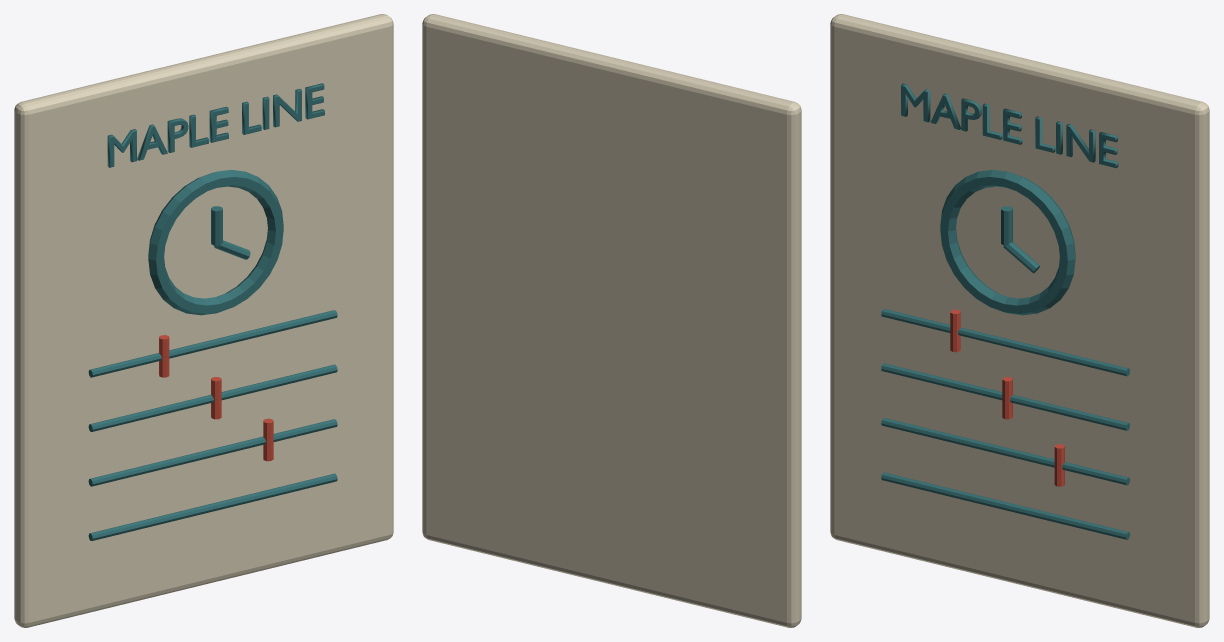
Rendered from timetable-clock-v1-DZQhvbtV.glb.
The picture shows the model from 3 angles, left to right: view 1: azimuth 30°, elevation 25°; view 2: azimuth 150°, elevation 25°; view 3: azimuth 330°, elevation 25°; orthographic projection.
Parts seen in each view (by area): view 1: Timetable sheet, Printed station clock, Timetable title, Timetable row 4, Timetable row 3, Timetable row 2, Timetable row 1; view 2: Timetable sheet; view 3: Timetable sheet, Printed station clock, Timetable title, Timetable row 4, Timetable row 1, Timetable row 2, Timetable row 3.
Boxes of the visible parts, bbox=[...] form: Timetable sheet: bbox=[14, 14, 393, 627]; Printed station clock: bbox=[148, 170, 283, 315]; Timetable title: bbox=[107, 83, 324, 167]; Timetable row 4: bbox=[88, 473, 337, 540]; Timetable row 3: bbox=[88, 419, 337, 486]; Timetable row 2: bbox=[88, 364, 337, 431]; Timetable row 1: bbox=[88, 310, 337, 377]; Timetable sheet: bbox=[422, 14, 801, 627]; Timetable sheet: bbox=[830, 14, 1209, 627]; Printed station clock: bbox=[940, 170, 1075, 315]; Timetable title: bbox=[901, 83, 1118, 168]; Timetable row 4: bbox=[881, 472, 1129, 539]; Timetable row 1: bbox=[881, 309, 1129, 376]; Timetable row 2: bbox=[881, 363, 1129, 430]; Timetable row 3: bbox=[881, 418, 1129, 485].
Bounding box in the file's own units: 1.44 × 1.92 × 0.1417.
